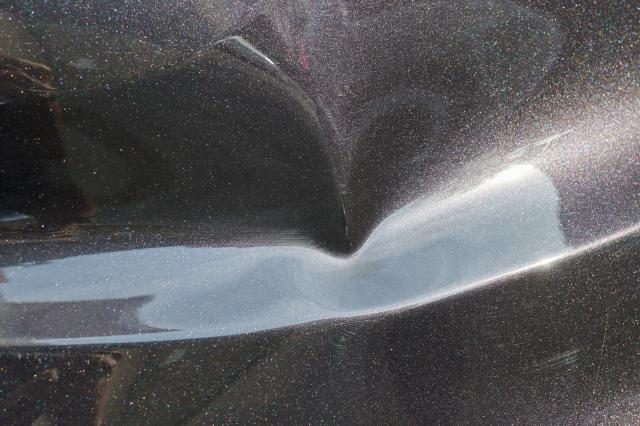dent: (54, 43, 503, 314)
